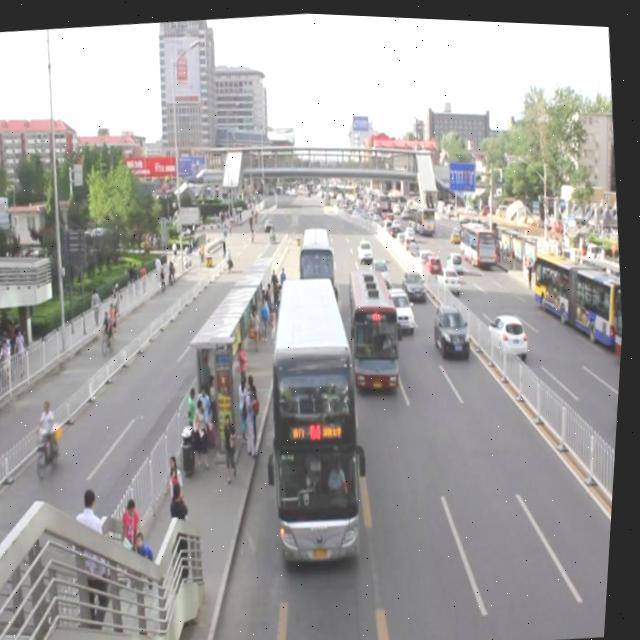car: (432, 293, 476, 359), (383, 275, 421, 331), (399, 263, 436, 304), (367, 247, 400, 286), (355, 231, 379, 261)
van: (246, 265, 391, 575), (339, 255, 415, 402), (293, 218, 346, 302)
